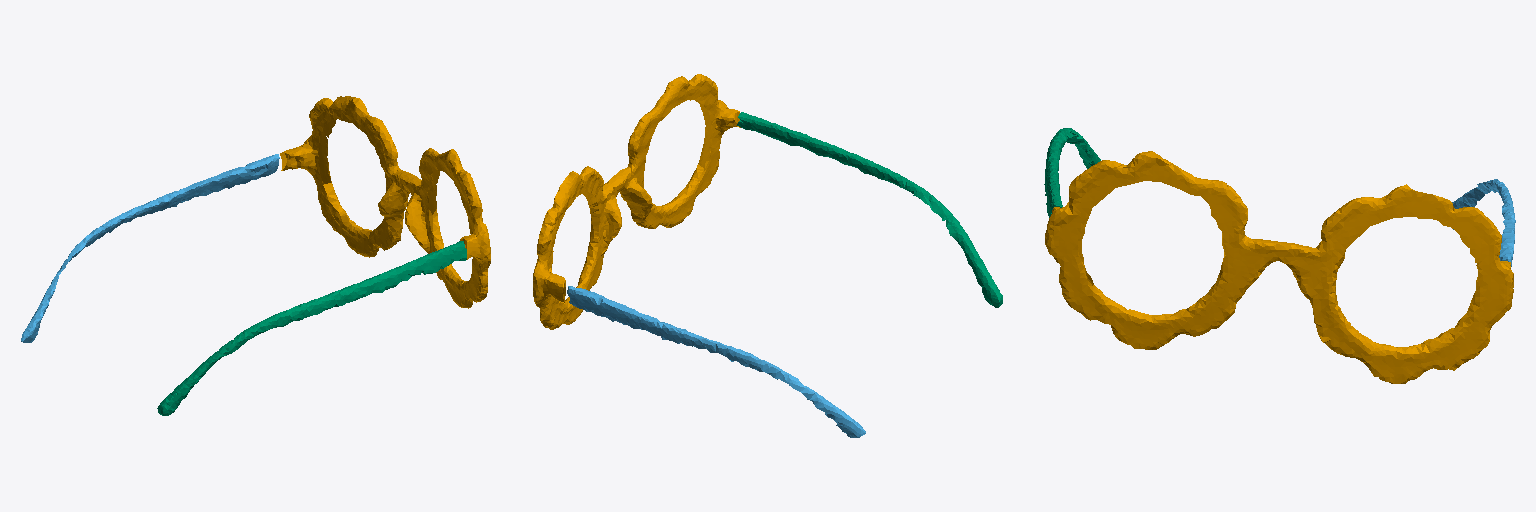
robot.urdf — eyeglasses1:
<?xml version="1.0" ?>
<robot name="eyeglasses1">
	<link name="base_link">
		<visual>
			<origin rpy="0 0 0" xyz="0.0 0.0 0.0"/>
			<geometry>
				<mesh filename="package://part_meshes/base_link.obj" scale="1 1 1"/>
			</geometry>
		</visual>
		<inertial>
			<origin rpy="0 0 0" xyz="0 0 0"/>
			<mass value="0.0"/>
			<inertia ixx="0.0" ixy="0.0" ixz="0.0" iyy="0.0" iyz="0.0" izz="0.0"/>
		</inertial>
	</link>
	<link name="link1">
		<visual>
			<origin rpy="0 0 0" xyz="0.00841 0.014404000000000004 -0.058633"/>
			<geometry>
				<mesh filename="package://part_meshes/link1.obj" scale="1 1 1"/>
			</geometry>
		</visual>
		<inertial>
			<origin rpy="0 0 0" xyz="0 0 0"/>
			<mass value="0.0"/>
			<inertia ixx="0.0" ixy="0.0" ixz="0.0" iyy="0.0" iyz="0.0" izz="0.0"/>
		</inertial>
	</link>
	<link name="link2">
		<visual>
			<origin rpy="0 0 0" xyz="-0.005785 0.015839 0.059665"/>
			<geometry>
				<mesh filename="package://part_meshes/link2.obj" scale="1 1 1"/>
			</geometry>
		</visual>
		<inertial>
			<origin rpy="0 0 0" xyz="0 0 0"/>
			<mass value="0.0"/>
			<inertia ixx="0.0" ixy="0.0" ixz="0.0" iyy="0.0" iyz="0.0" izz="0.0"/>
		</inertial>
	</link>
	<joint name="joint_base_link-link1" type="revolute">
		<parent link="base_link"/>
		<child link="link1"/>
		<origin xyz="-0.00841 -0.014404000000000004 0.058633" rpy="0 0 0"/>
		<axis xyz="1.0 0.0 0.0"/>
		<limit effort="1.0" lower="-0.01" upper="1.5" velocity="1000"/>
	</joint>
	<joint name="joint_base_link-link2" type="revolute">
		<parent link="base_link"/>
		<child link="link2"/>
		<origin xyz="0.005785 -0.015839 -0.059665" rpy="0 0 0"/>
		<axis xyz="0.9999999999999999 0.0 0.0"/>
		<limit effort="1.0" lower="-1.5" upper="0.01" velocity="1000"/>
	</joint>
</robot>

--- Facts derived from the render (not from the file) ---
Views: 3 orthographic renders of the robot side by side, from view 1: azimuth 30°, elevation 25°; view 2: azimuth 150°, elevation 25°; view 3: azimuth 270°, elevation 25°.
Robot: eyeglasses1 — 3 links, 2 joints (2 revolute); root link base_link; default pose: all joints at 0.
Links seen in each view (by area): view 1: base_link, link2, link1; view 2: base_link, link1, link2; view 3: base_link, link2, link1.
Link boxes in pixels (x1=…): base_link: x1=280, y1=96, x2=490, y2=308; link2: x1=157, y1=241, x2=466, y2=415; link1: x1=21, y1=154, x2=279, y2=342; base_link: x1=533, y1=74, x2=740, y2=329; link1: x1=567, y1=286, x2=865, y2=437; link2: x1=737, y1=112, x2=1002, y2=307; base_link: x1=1045, y1=151, x2=1513, y2=383; link2: x1=1044, y1=128, x2=1100, y2=217; link1: x1=1452, y1=179, x2=1515, y2=266.
Size in the robot's own frame: 0.1261 by 0.1252 by 0.0759 metres.
3 mesh visuals loaded from 3 distinct referenced files (3 OBJ).